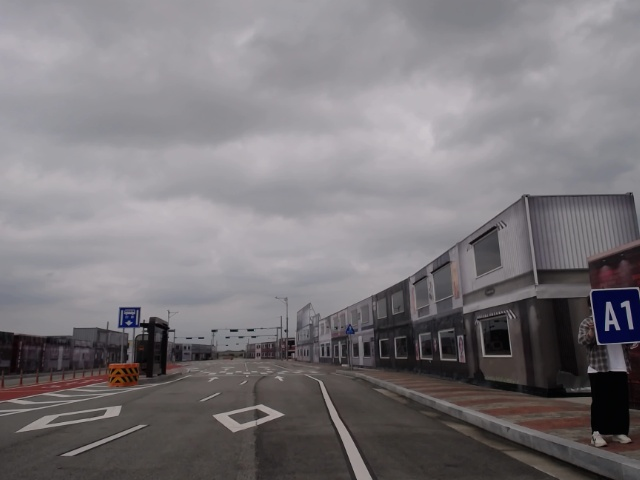delivery_a1: (590, 288, 639, 344)
